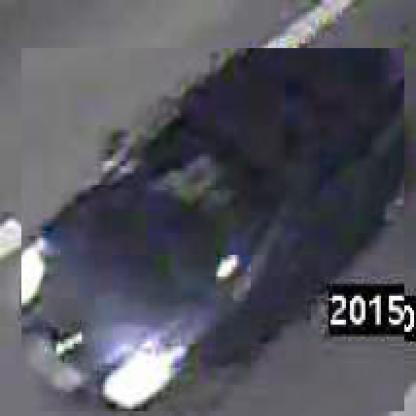car: (23, 49, 408, 415)
